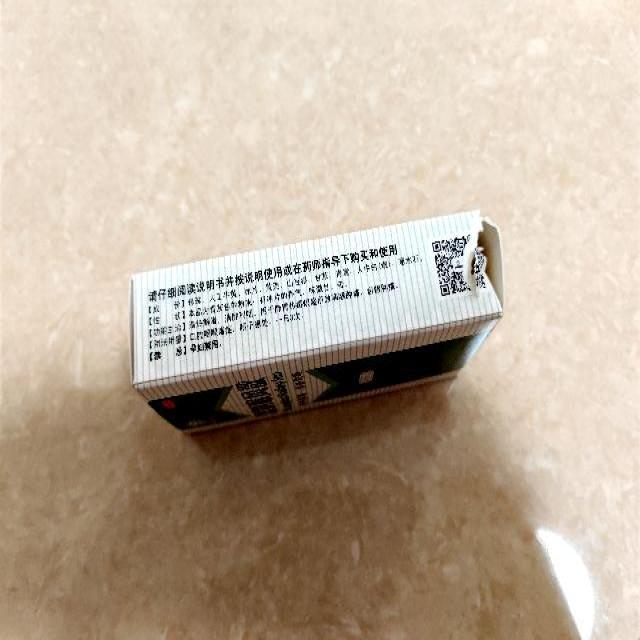box: (128, 210, 504, 436)
